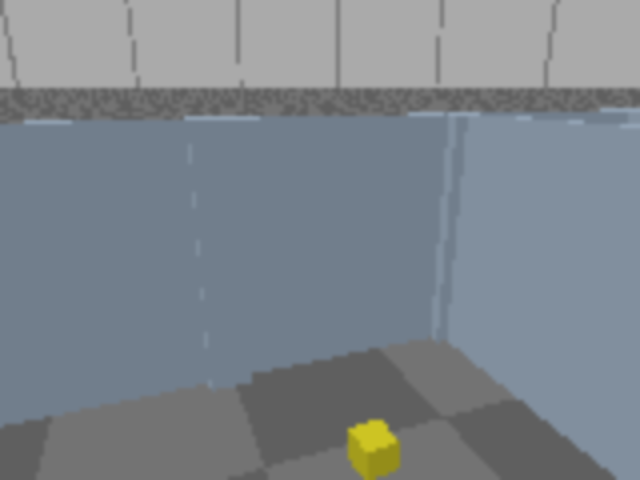puck: (347, 418, 400, 478)
